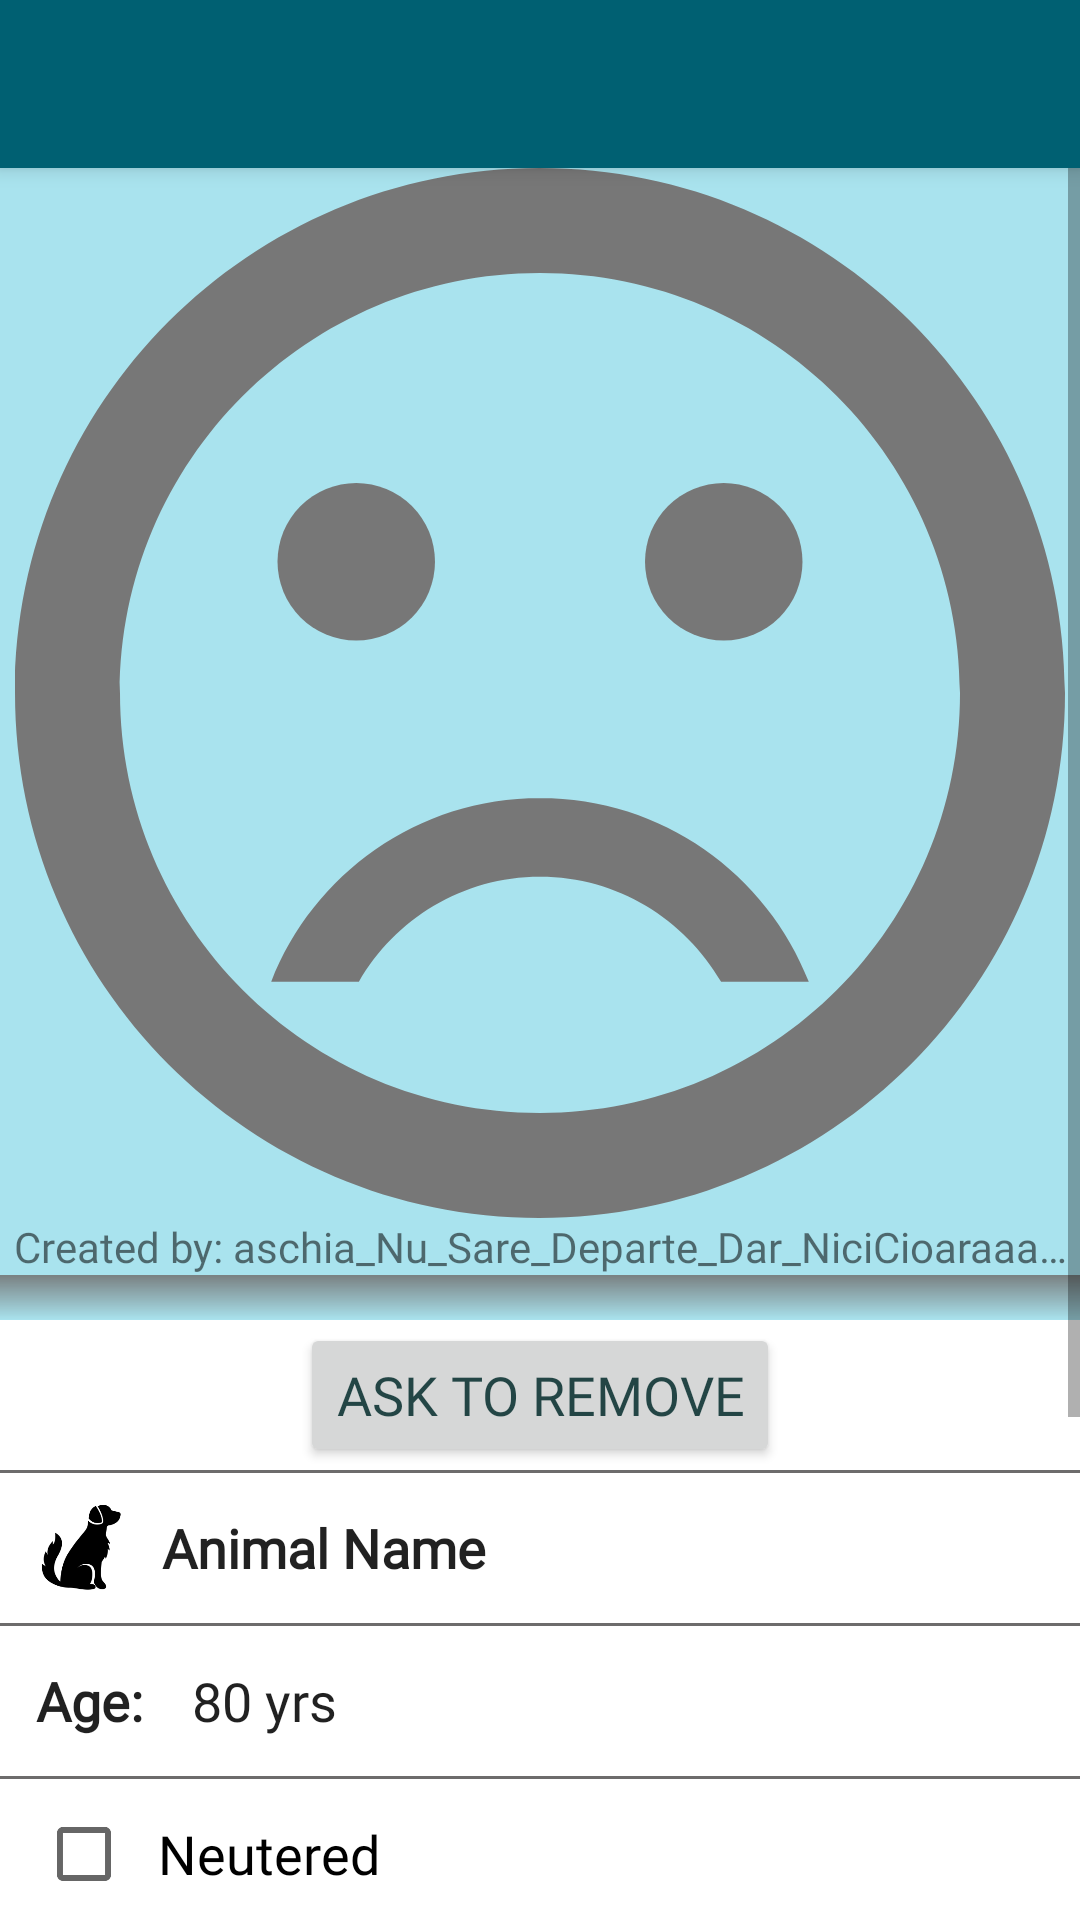

Icon click points for this 1080px×1920px phone screenshot, format point (x, y):
dog: point (81, 1547)
